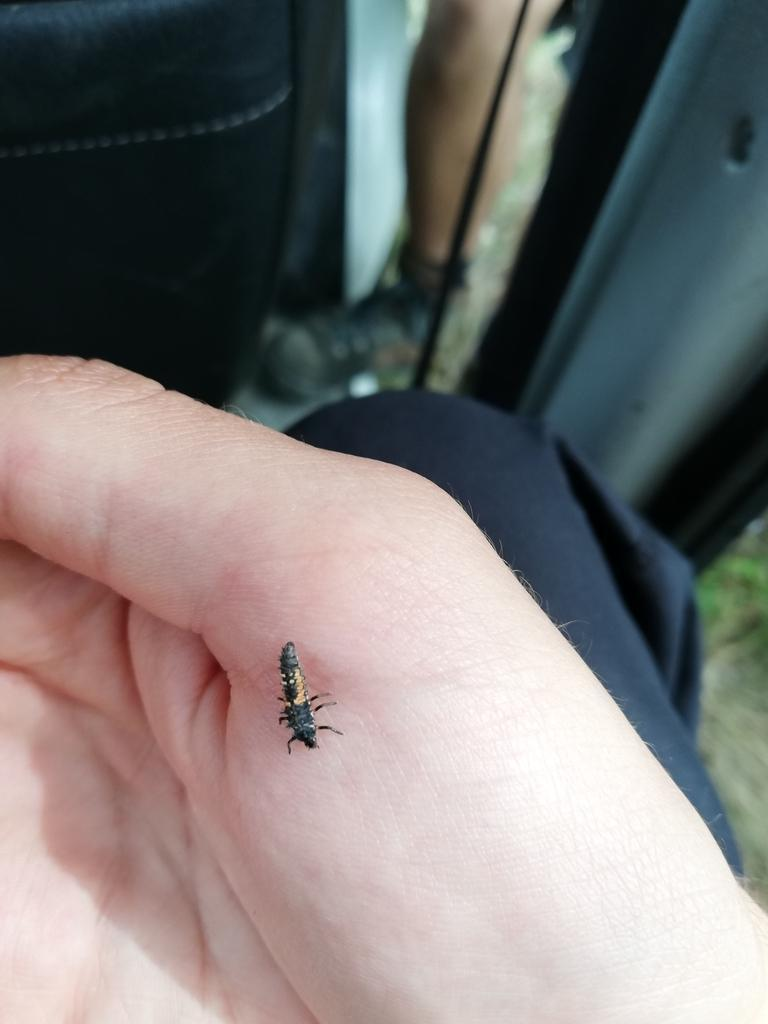ladybug: (274, 639, 349, 759)
